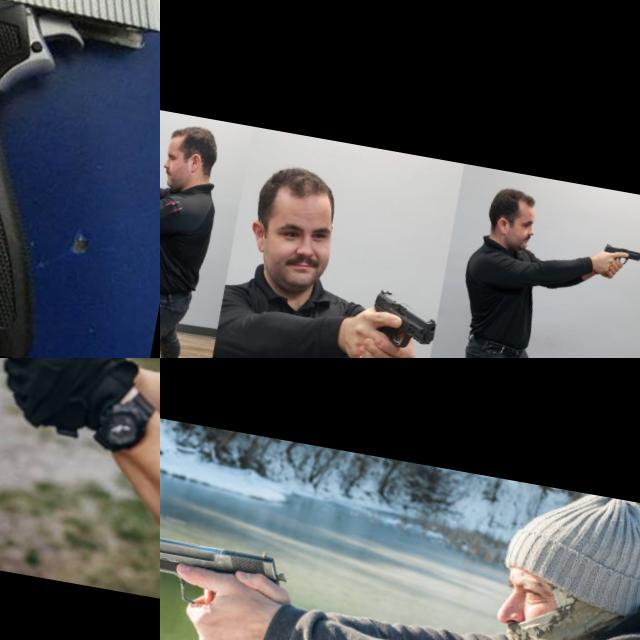handgun: (0, 0, 160, 358), (160, 524, 291, 620), (0, 358, 109, 412), (365, 284, 442, 354), (600, 239, 640, 267), (160, 140, 183, 170)
